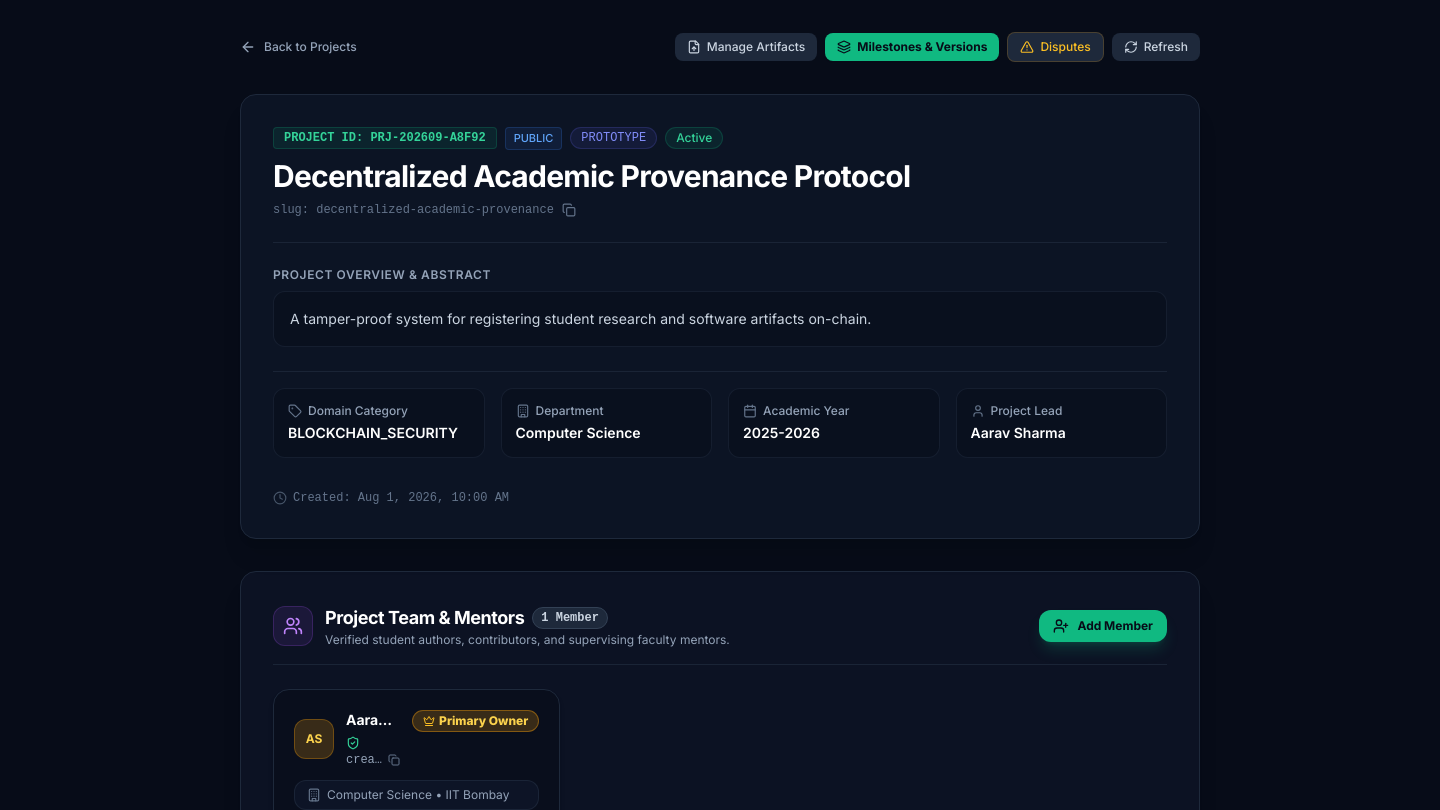
Test: Frontend Project Team / Member Management Tests › loads project details, lists existing members, and allows adding a member dynamically
The image size is (1440, 810).
Expected: the text "Primary Owner" is shown, [439,713,528,729]
Note: Click Add Member
Click the button "Add Member".
click(1103, 626)  # box [1040,610,1167,642]
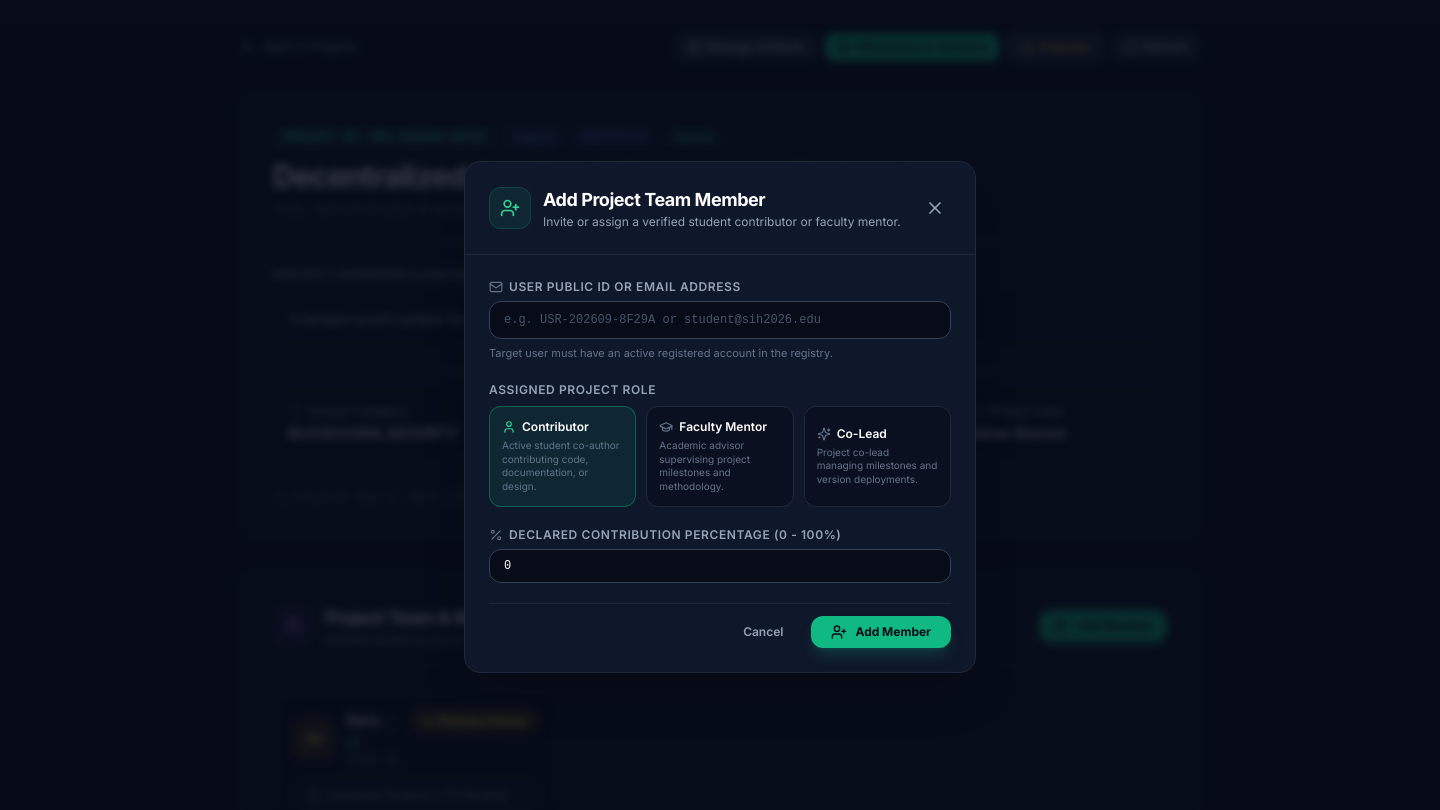
Now the dialog is shown
Type "contributor@sih2026.edu" into the field with placeholder "e.g. USR-202609-8F29A or student@sih2026.edu".
click(720, 320); type("contributor@sih2026.edu")  # box [489,301,951,339]
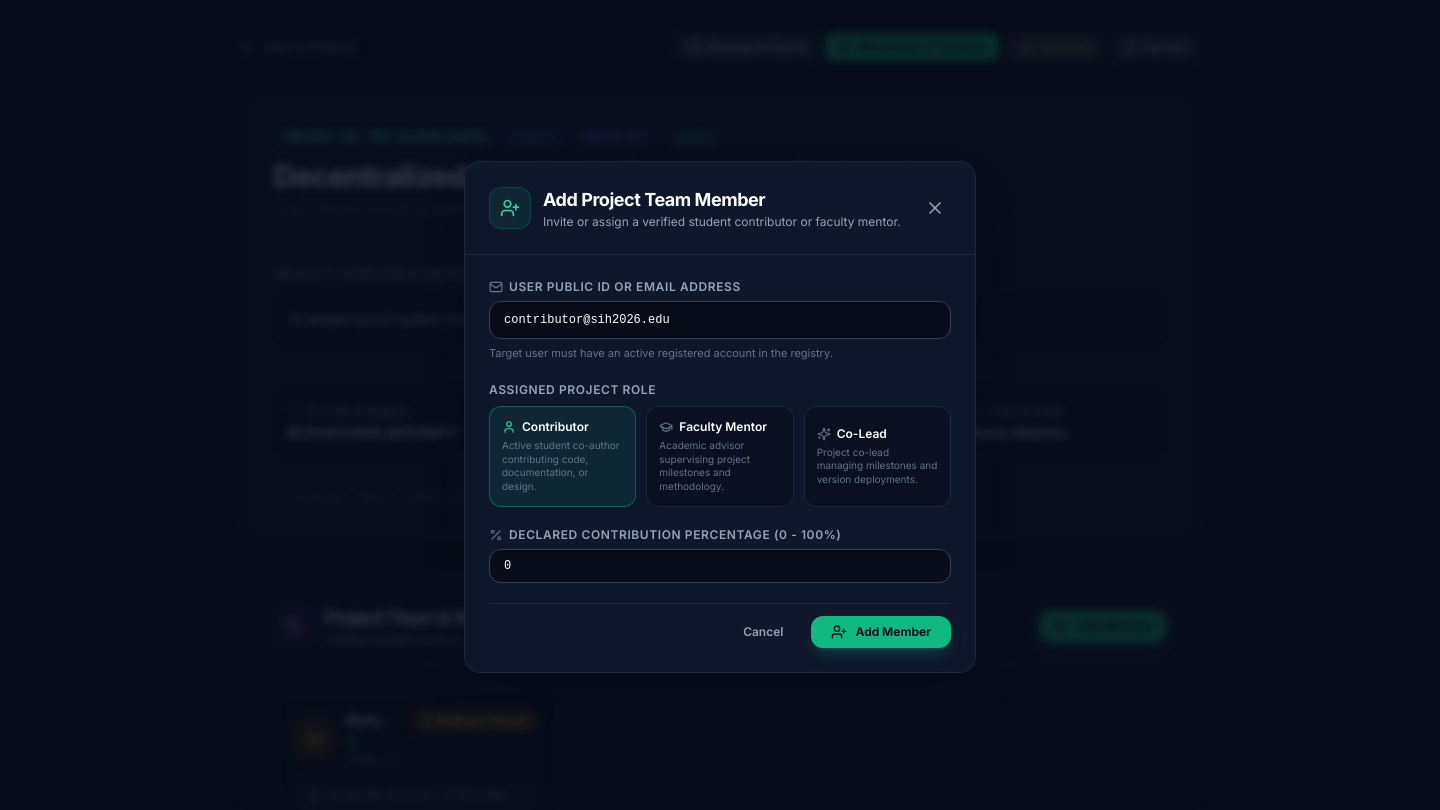
Click the button "Add Member".
click(881, 632)  # box [812,616,951,648]
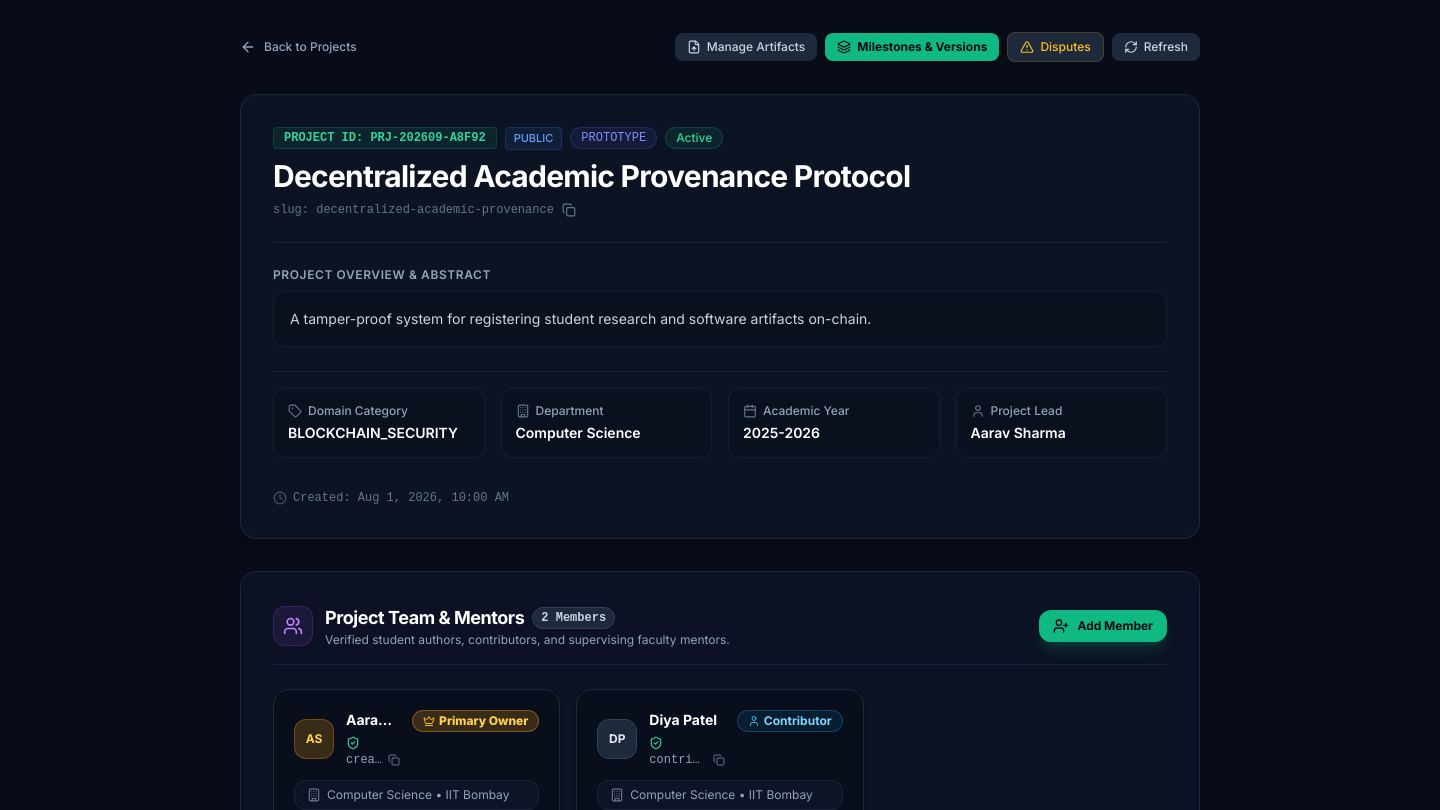
Now the heading "Diya Patel" is shown, box [649,710,717,730]
Now the text "contributor@sih2026.edu" is shown, box [649,752,707,768]
